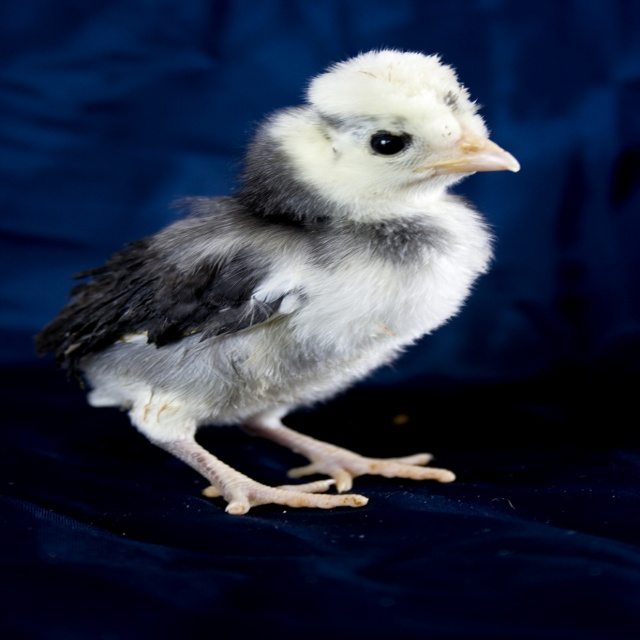Chicken: (46, 45, 516, 548)
